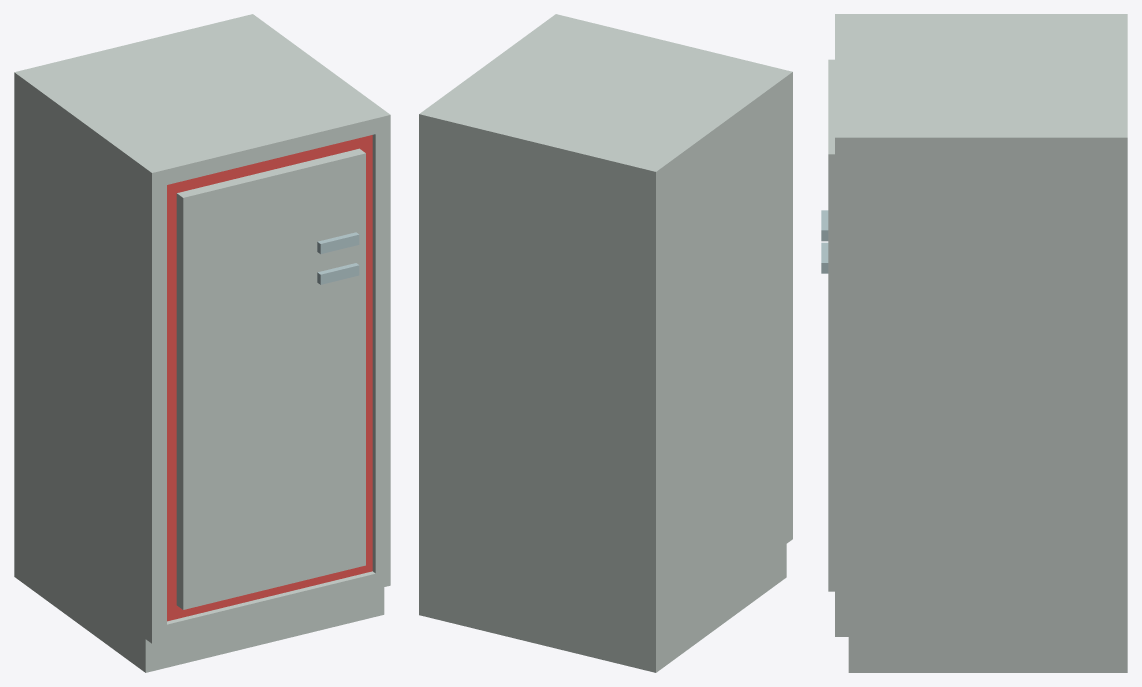
Rendered from Fridge.fbx.
3 renders of one model, left to right at view 1: azimuth 30°, elevation 25°; view 2: azimuth 150°, elevation 25°; view 3: azimuth 270°, elevation 25°, orthographic. The views are drawn at different scales.
Visible parts, largest first — view 1: kitchenFridgeBuiltIn; view 2: kitchenFridgeBuiltIn; view 3: kitchenFridgeBuiltIn.
Boxes of the visible parts, x1=… form: kitchenFridgeBuiltIn: x1=14, y1=14, x2=390, y2=672; kitchenFridgeBuiltIn: x1=419, y1=14, x2=792, y2=672; kitchenFridgeBuiltIn: x1=821, y1=14, x2=1127, y2=672.
Size of the model in its own units: 4.3 by 8.69 by 4.5.
